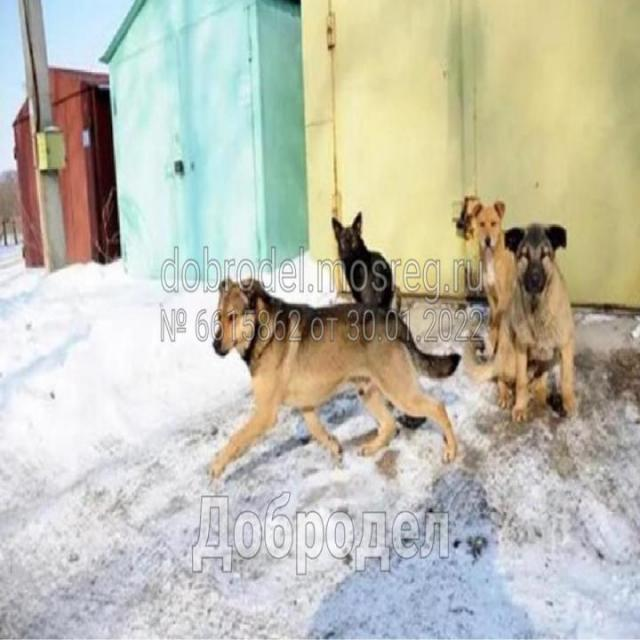dog: (205, 276, 462, 475), (498, 221, 569, 412), (328, 208, 407, 318), (468, 203, 516, 329)
